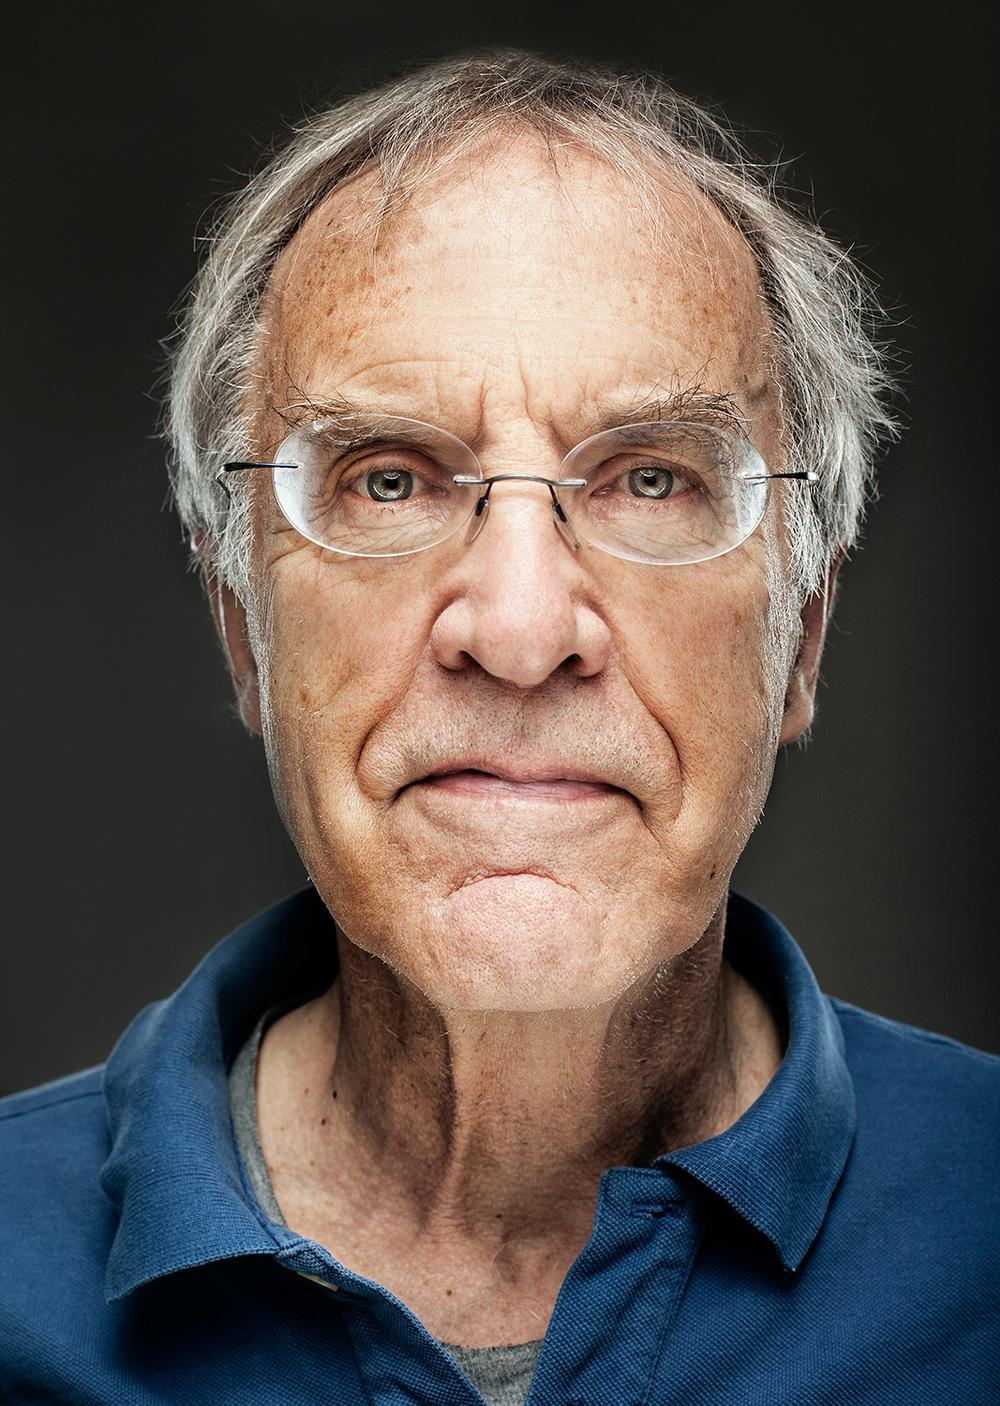Sober: (285, 194, 782, 1002)
